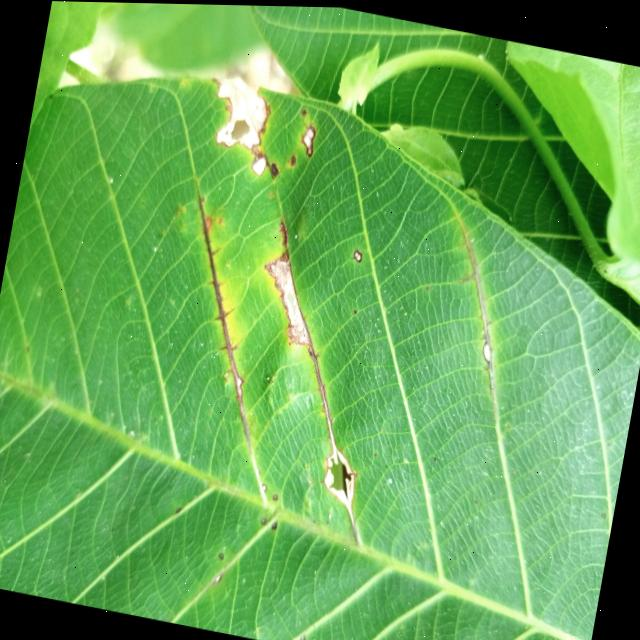Colletotrichum: (270, 160, 280, 175), (352, 247, 363, 260), (260, 514, 268, 523), (260, 480, 268, 489), (290, 154, 296, 165), (300, 106, 308, 114), (272, 490, 278, 499)
Corynespora: (228, 217, 410, 544), (155, 191, 294, 448), (436, 232, 526, 412)
Leaf-Blight: (258, 257, 320, 342), (206, 73, 272, 150)
